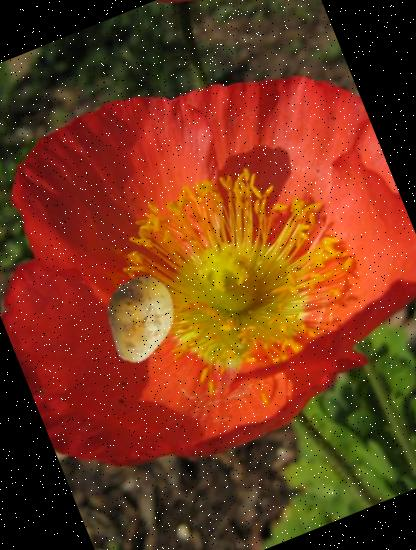Potato: (80, 259, 198, 377)
